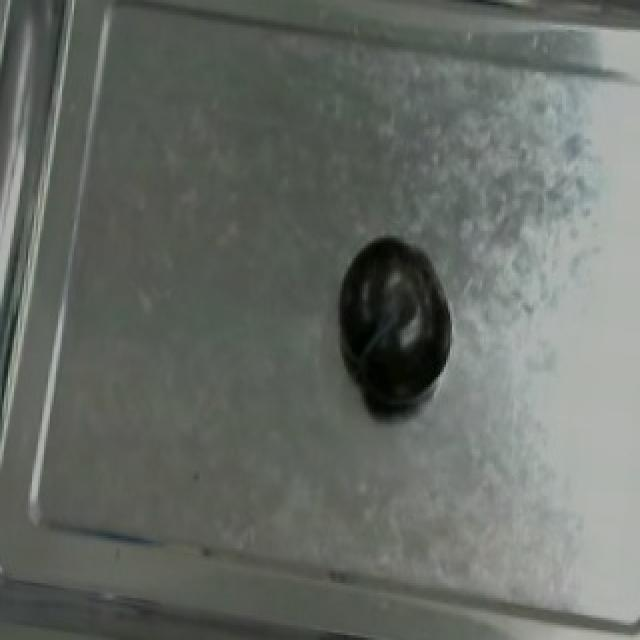Fruit: (332, 223, 456, 417)
